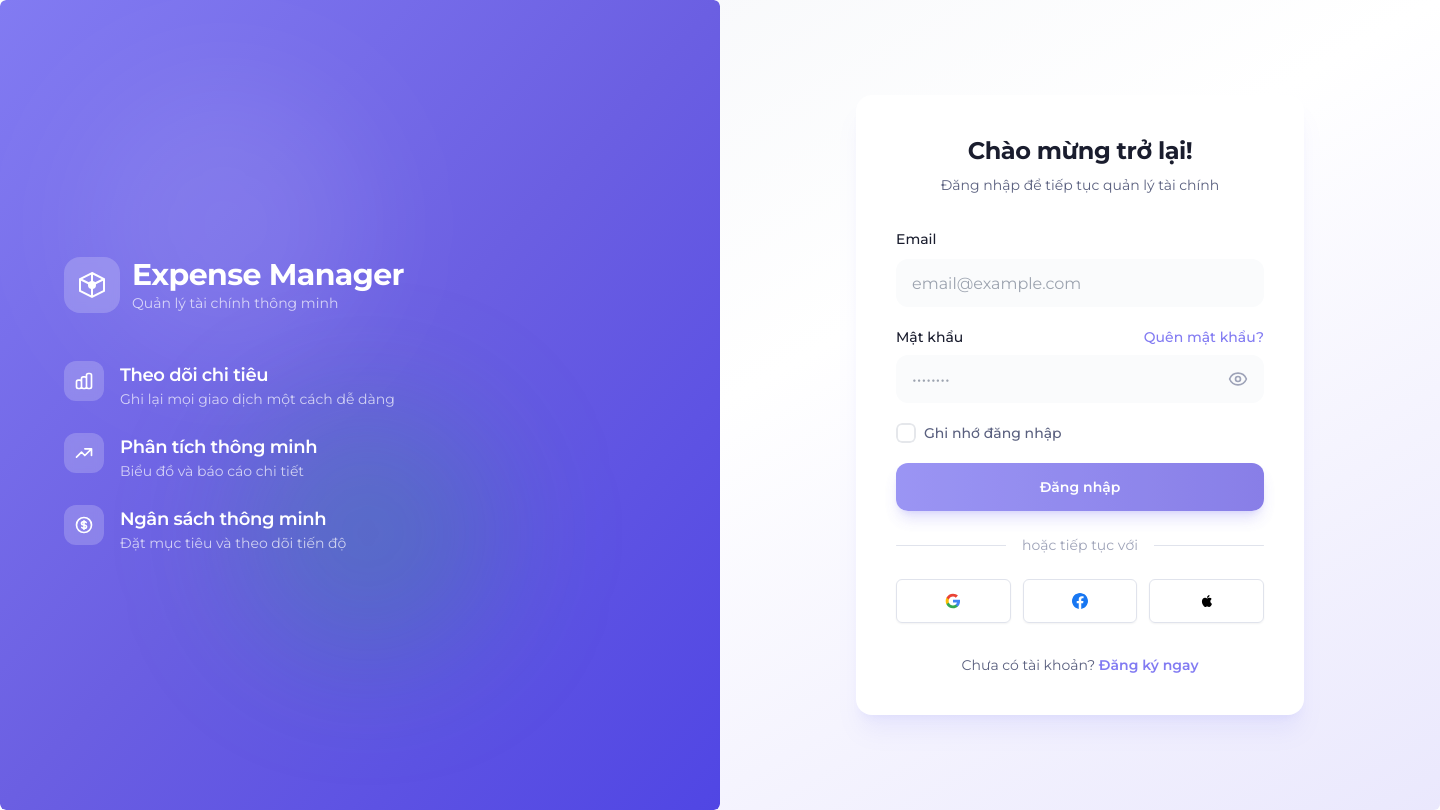
Test case: LoginPage › Validation với react-hook-form + zod › phải hiển thị lỗi khi email rỗng và submit
This screenshot has width=1440, height=810.
Click the button "Đăng nhập" at (1080, 487), box [896, 463, 1264, 511]
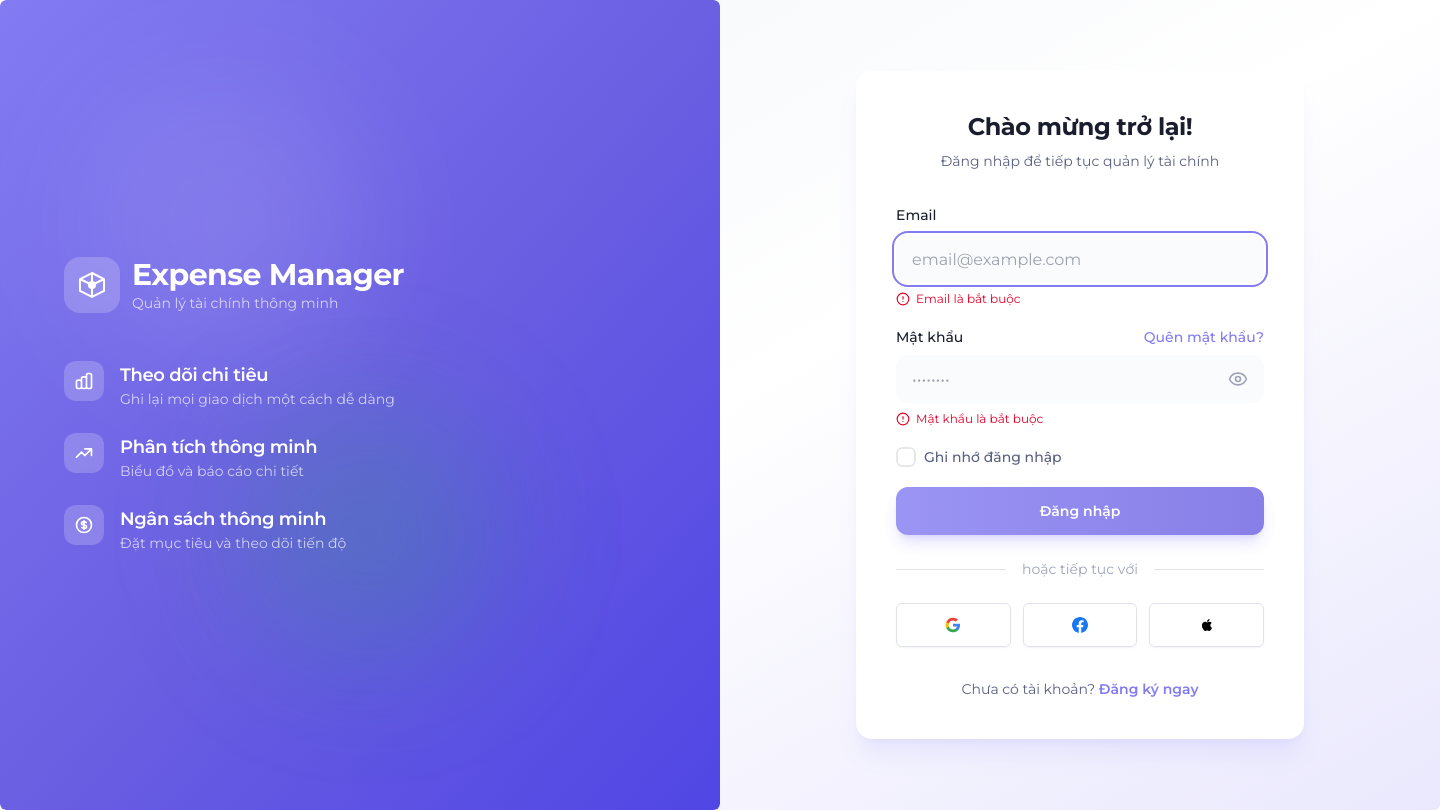
Result: the text "Email là bắt buộc" is shown at [916, 291, 1021, 307]
